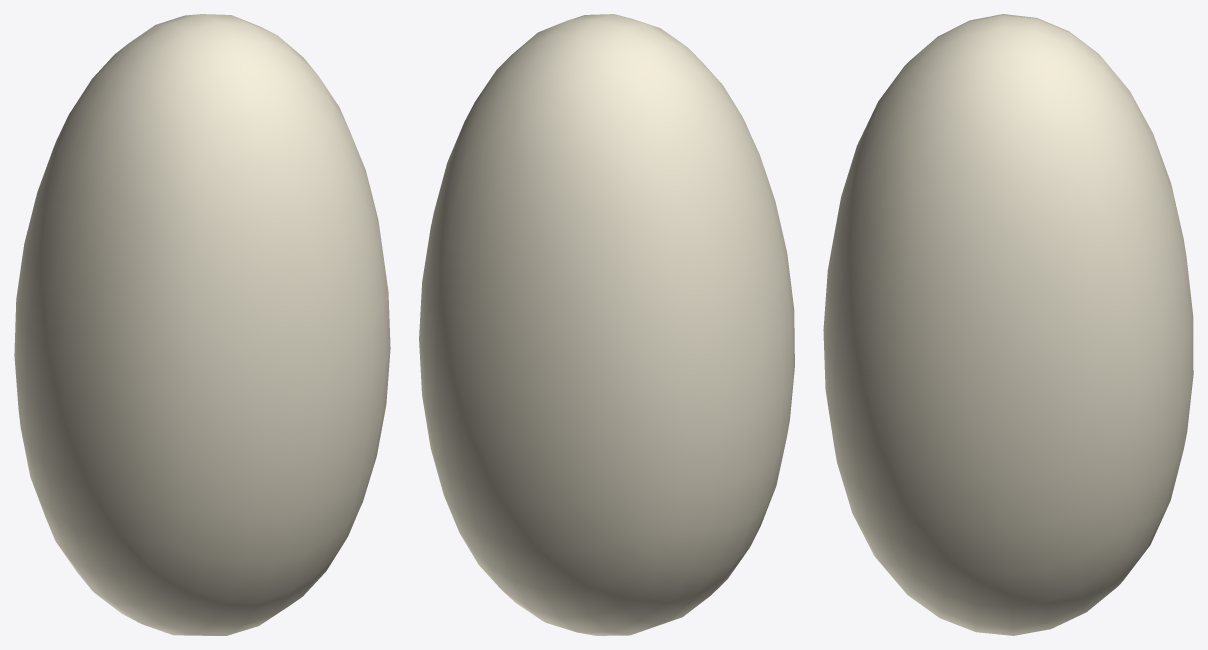
Rendered from egg1.fbx.
The picture shows the model from 3 angles, left to right: view 1: azimuth 30°, elevation 25°; view 2: azimuth 150°, elevation 25°; view 3: azimuth 270°, elevation 25°; orthographic projection.
Visible parts, largest first — view 1: Cube; view 2: Cube; view 3: Cube.
Boxes of the visible parts, x1,y1,x2,y2 form: Cube: (14, 14, 390, 635); Cube: (419, 14, 794, 635); Cube: (823, 14, 1193, 635).
Size of the model in its own units: 64.69 by 116 by 64.59.
